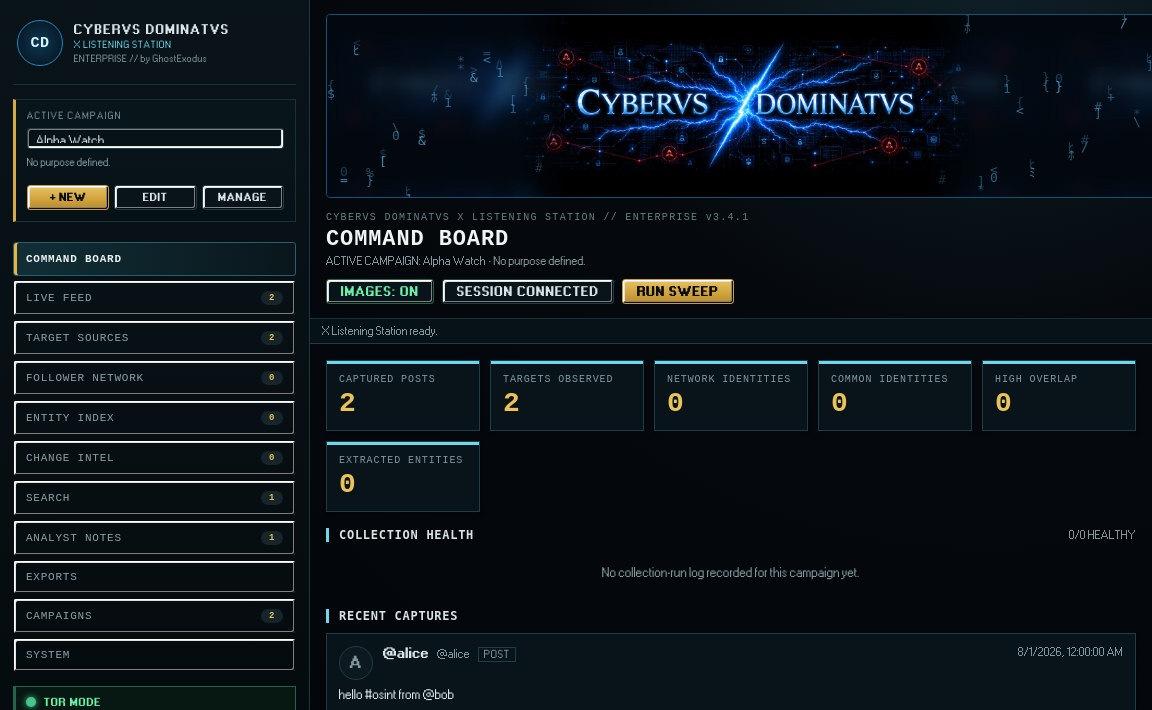
X Listening Station tabs (Task 15) › notes tab lists the real persisted notes from readNotes
The width and height of the screenshot is (1152, 710).
What coordinates should you click on to do the following:
click the button with class "xls-tab" showing "ANALYST NOTES 1"
I would click on:
 (74, 538)
Its box is 13,520 -> 296,556.
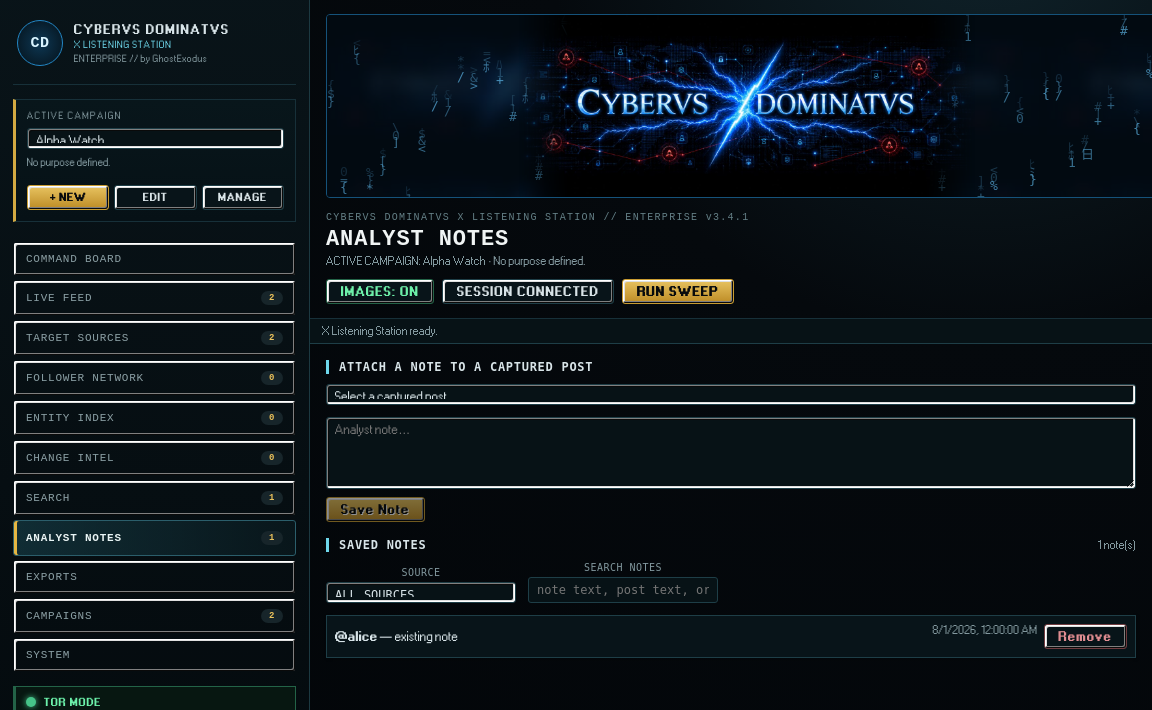
Expected: the text "existing note" is shown, 395,630 -> 458,643
